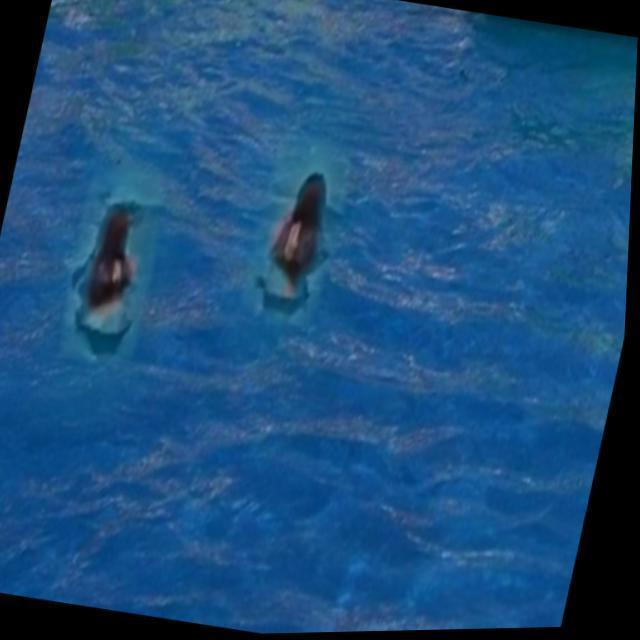swimming: (66, 188, 145, 335), (267, 173, 325, 318)
